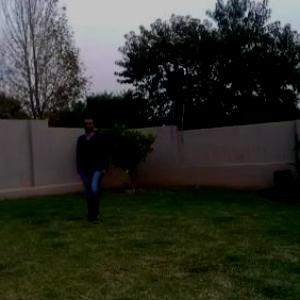follow: (76, 115, 110, 224)
